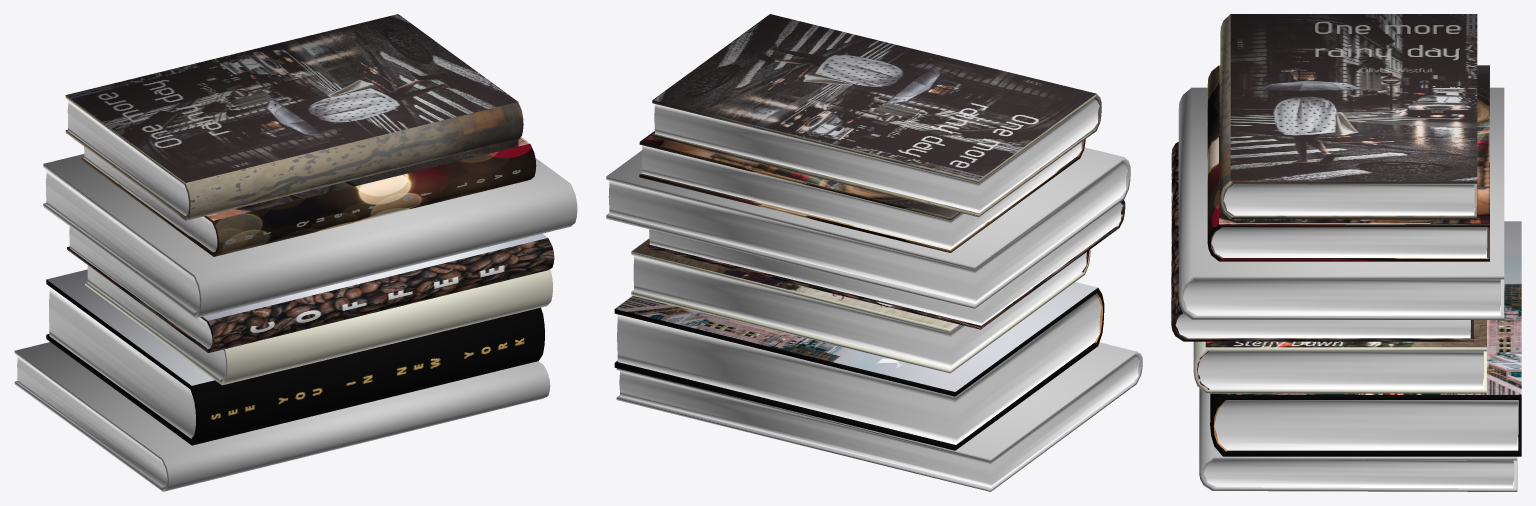
Rendered from Books_fbx.fbx.
The picture shows the model from 3 angles, left to right: view 1: azimuth 30°, elevation 25°; view 2: azimuth 150°, elevation 25°; view 3: azimuth 270°, elevation 25°; orthographic projection. The views are drawn at different scales.
Parts seen in each view (by area): view 1: Book_7, Book_5, Book_2, Book_1, Book_4, Book_6, Book_3; view 2: Book_7, Book_2, Book_5, Book_1, Book_3, Book_6, Book_4; view 3: Book_7, Book_5, Book_2, Book_6, Book_3, Book_1, Book_4.
Part boxes in pixels (left/top/right/bottom): Book_7: left=65, top=14, right=523, bottom=220; Book_5: left=43, top=154, right=577, bottom=318; Book_2: left=46, top=269, right=544, bottom=445; Book_1: left=14, top=342, right=550, bottom=491; Book_4: left=67, top=226, right=554, bottom=352; Book_6: left=81, top=137, right=536, bottom=256; Book_3: left=85, top=265, right=552, bottom=385; Book_7: left=652, top=14, right=1101, bottom=216; Book_2: left=614, top=282, right=1104, bottom=450; Book_5: left=606, top=147, right=1130, bottom=308; Book_1: left=616, top=342, right=1142, bottom=491; Book_3: left=631, top=238, right=1090, bottom=373; Book_6: left=639, top=131, right=1085, bottom=252; Book_4: left=646, top=200, right=1125, bottom=329; Book_7: left=1220, top=14, right=1477, bottom=219; Book_5: left=1178, top=87, right=1504, bottom=319; Book_2: left=1210, top=221, right=1521, bottom=456; Book_6: left=1207, top=65, right=1489, bottom=261; Book_3: left=1193, top=320, right=1486, bottom=393; Book_1: left=1199, top=388, right=1517, bottom=491; Book_4: left=1171, top=142, right=1473, bottom=341.
Size of the model in its own units: 17.53 by 12.42 by 12.98.
